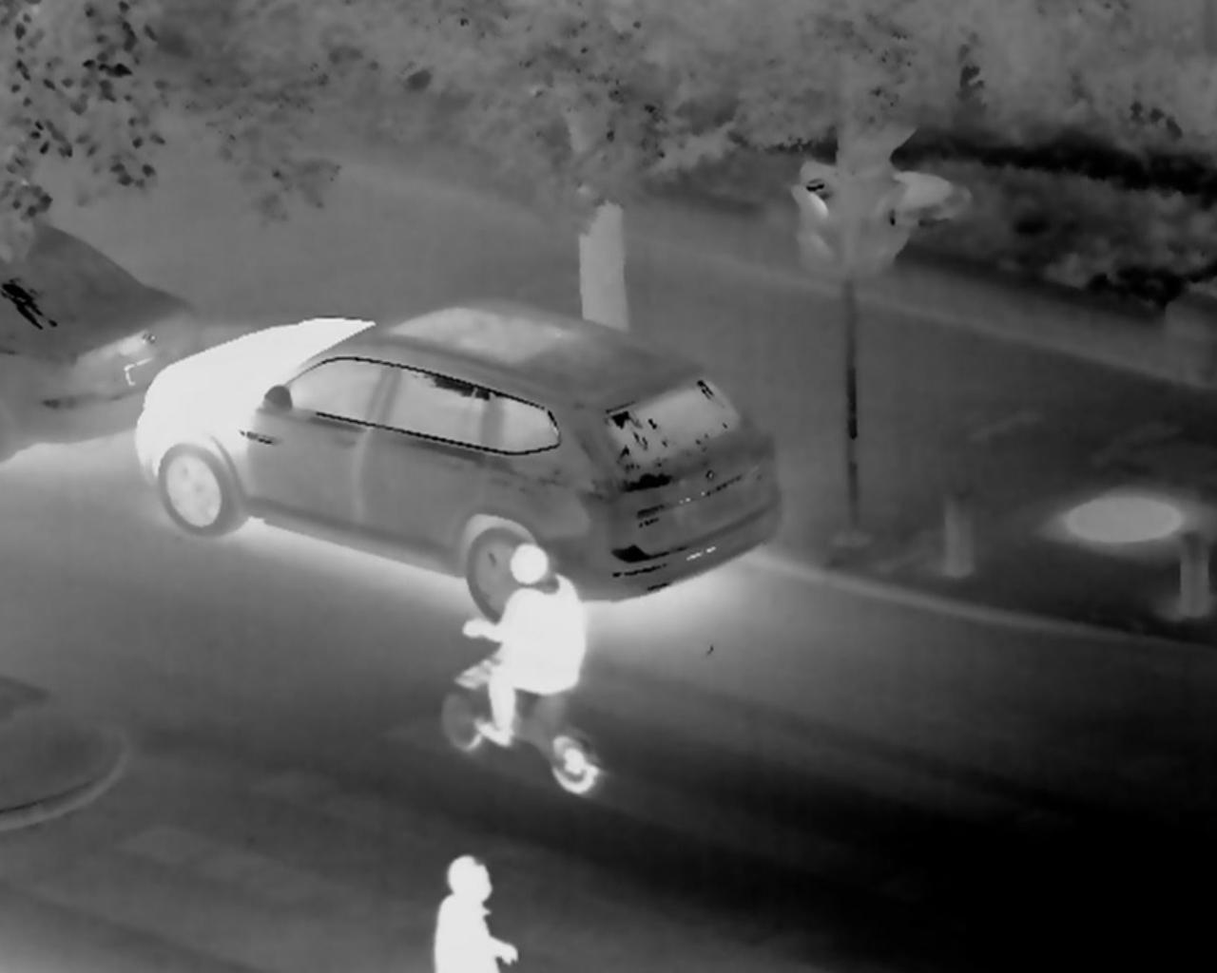person: (461, 537, 587, 752), (429, 849, 516, 973)
